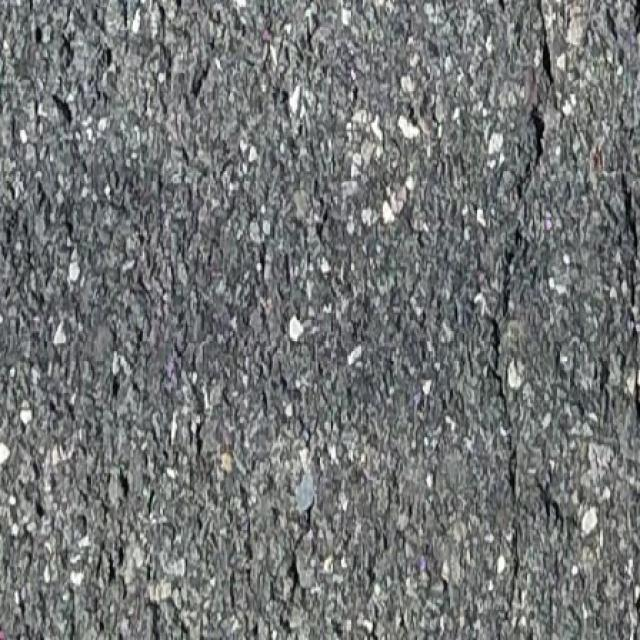Vertical Crack: (490, 5, 550, 624)
